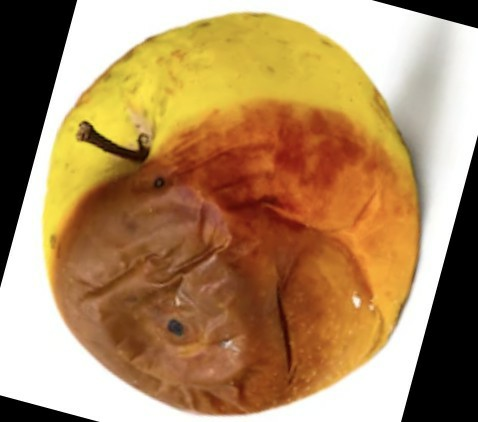rotten_apple: (44, 12, 422, 415)
